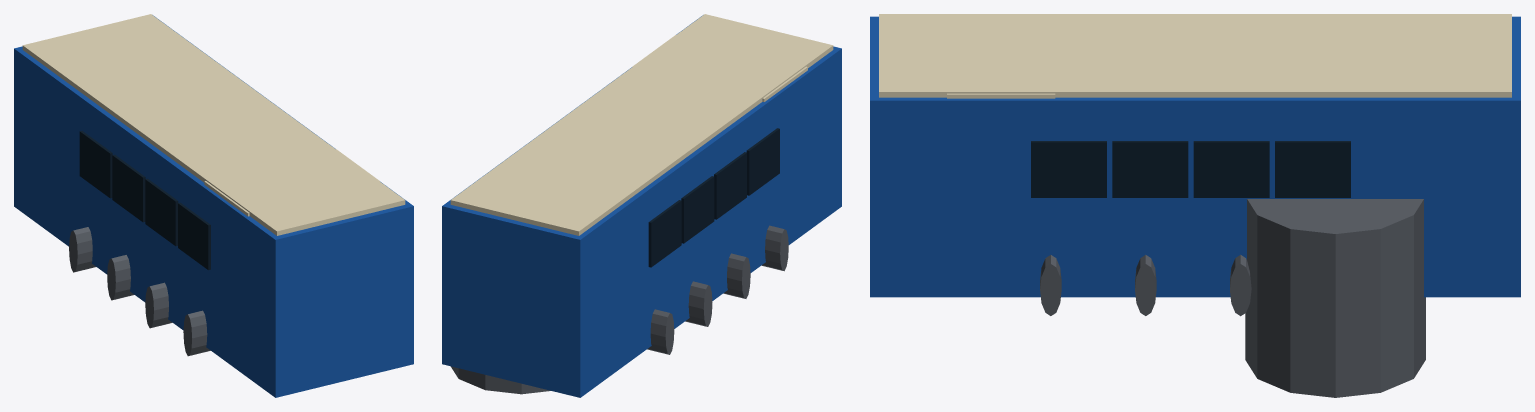
The model's file is SM_Trains_Express_001.obj.
3 views of the same model, side by side, from view 1: azimuth 30°, elevation 25°; view 2: azimuth 150°, elevation 25°; view 3: azimuth 270°, elevation 25° (orthographic). The views are drawn at different scales.
Visible parts, largest first — view 1: Body, Roof, Window3-1.0, Window2-1.0, Window1-1.0, Window0-1.0, Wheel3-1.0, Wheel1-1.0, Wheel2-1.0, Wheel0-1.0; view 2: Body, Roof, Window3-1.0, Window2-1.0, Window0-1.0, Window1-1.0, Wheel31.0, Wheel3-1.0, Wheel0-1.0, Wheel1-1.0, Wheel2-1.0; view 3: Body, Roof, Wheel31.0, Window11.0, Window21.0, Window01.0, Window31.0, Wheel11.0, Wheel01.0, Wheel21.0, Cab.
Part boxes in pixels (x1,y1,x2,y2): Body: [14, 15, 413, 397]; Roof: [22, 14, 405, 235]; Window3-1.0: [79, 131, 112, 198]; Window2-1.0: [112, 154, 145, 222]; Window1-1.0: [145, 178, 178, 246]; Window0-1.0: [178, 202, 210, 270]; Wheel3-1.0: [69, 227, 95, 272]; Wheel1-1.0: [145, 282, 172, 328]; Wheel2-1.0: [107, 255, 134, 300]; Wheel0-1.0: [183, 310, 210, 356]; Body: [442, 15, 841, 397]; Roof: [450, 14, 833, 235]; Window3-1.0: [648, 200, 681, 267]; Window2-1.0: [681, 176, 714, 243]; Window0-1.0: [746, 128, 779, 195]; Window1-1.0: [714, 152, 746, 219]; Wheel31.0: [451, 366, 550, 394]; Wheel3-1.0: [647, 309, 674, 354]; Wheel0-1.0: [761, 225, 788, 271]; Wheel1-1.0: [723, 253, 750, 298]; Wheel2-1.0: [685, 281, 712, 326]; Body: [870, 16, 1520, 297]; Roof: [879, 14, 1511, 97]; Wheel31.0: [1245, 199, 1425, 397]; Window11.0: [1112, 141, 1188, 197]; Window21.0: [1193, 141, 1269, 197]; Window01.0: [1031, 141, 1106, 197]; Window31.0: [1275, 141, 1350, 197]; Wheel11.0: [1135, 255, 1156, 315]; Wheel01.0: [1040, 255, 1061, 315]; Wheel21.0: [1230, 255, 1251, 316]; Cab: [947, 93, 1055, 98].
Size of the model in its own units: 3.36 by 3.27 by 7.2.
